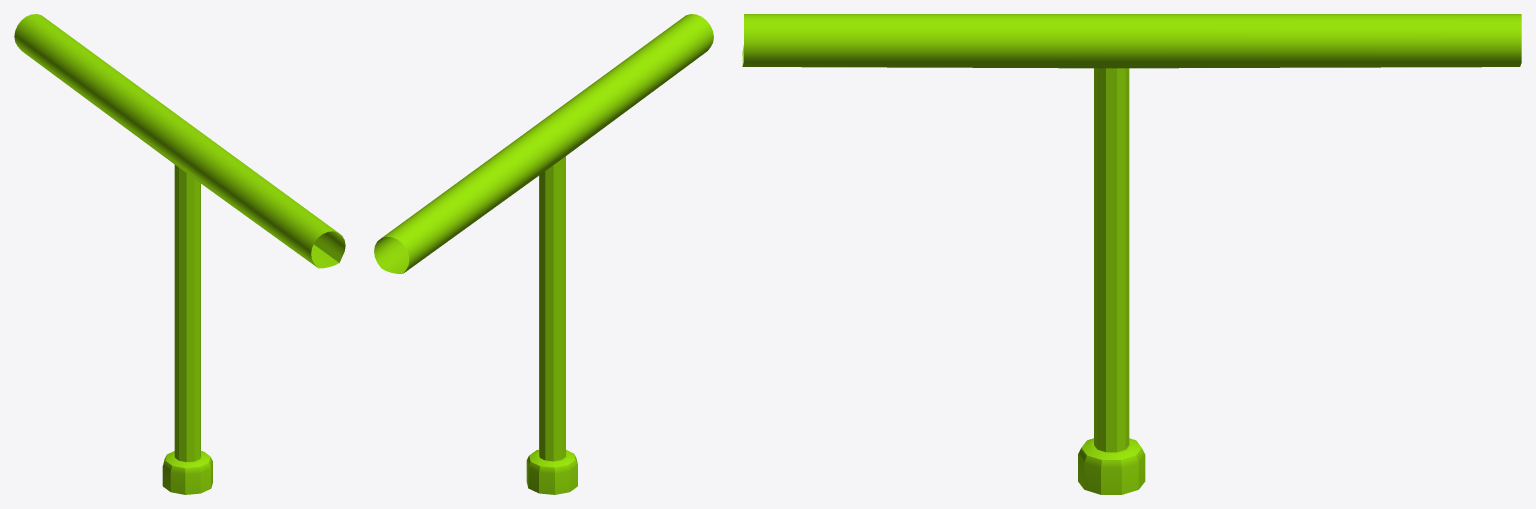
File: EN_W_fence2.fbx
3 views of the same model, side by side, from view 1: azimuth 30°, elevation 25°; view 2: azimuth 150°, elevation 25°; view 3: azimuth 270°, elevation 25° (orthographic). The views are drawn at different scales.
Visible parts, largest first — view 1: EN_W_fence2; view 2: EN_W_fence2; view 3: EN_W_fence2.
Boxes of the visible parts, bbox=[...] form: EN_W_fence2: bbox=[14, 14, 345, 494]; EN_W_fence2: bbox=[374, 14, 713, 494]; EN_W_fence2: bbox=[742, 14, 1521, 494].
Size of the model in its own units: 16.49 by 132 by 200.
